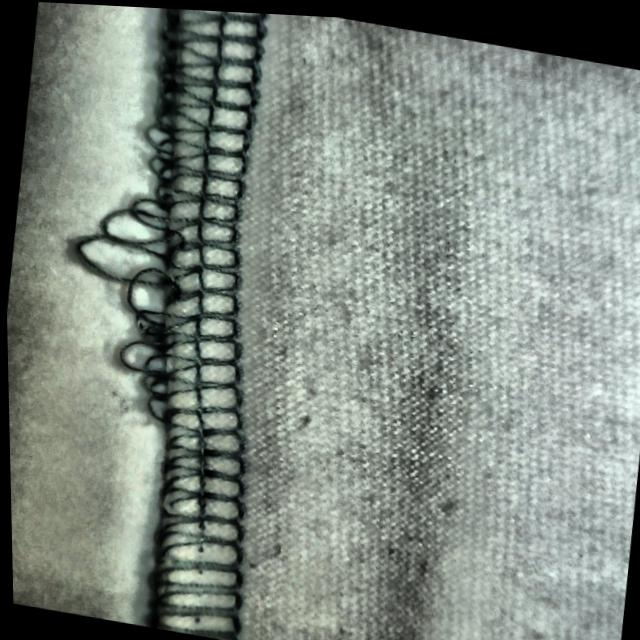Stitch: (49, 65, 279, 436)
